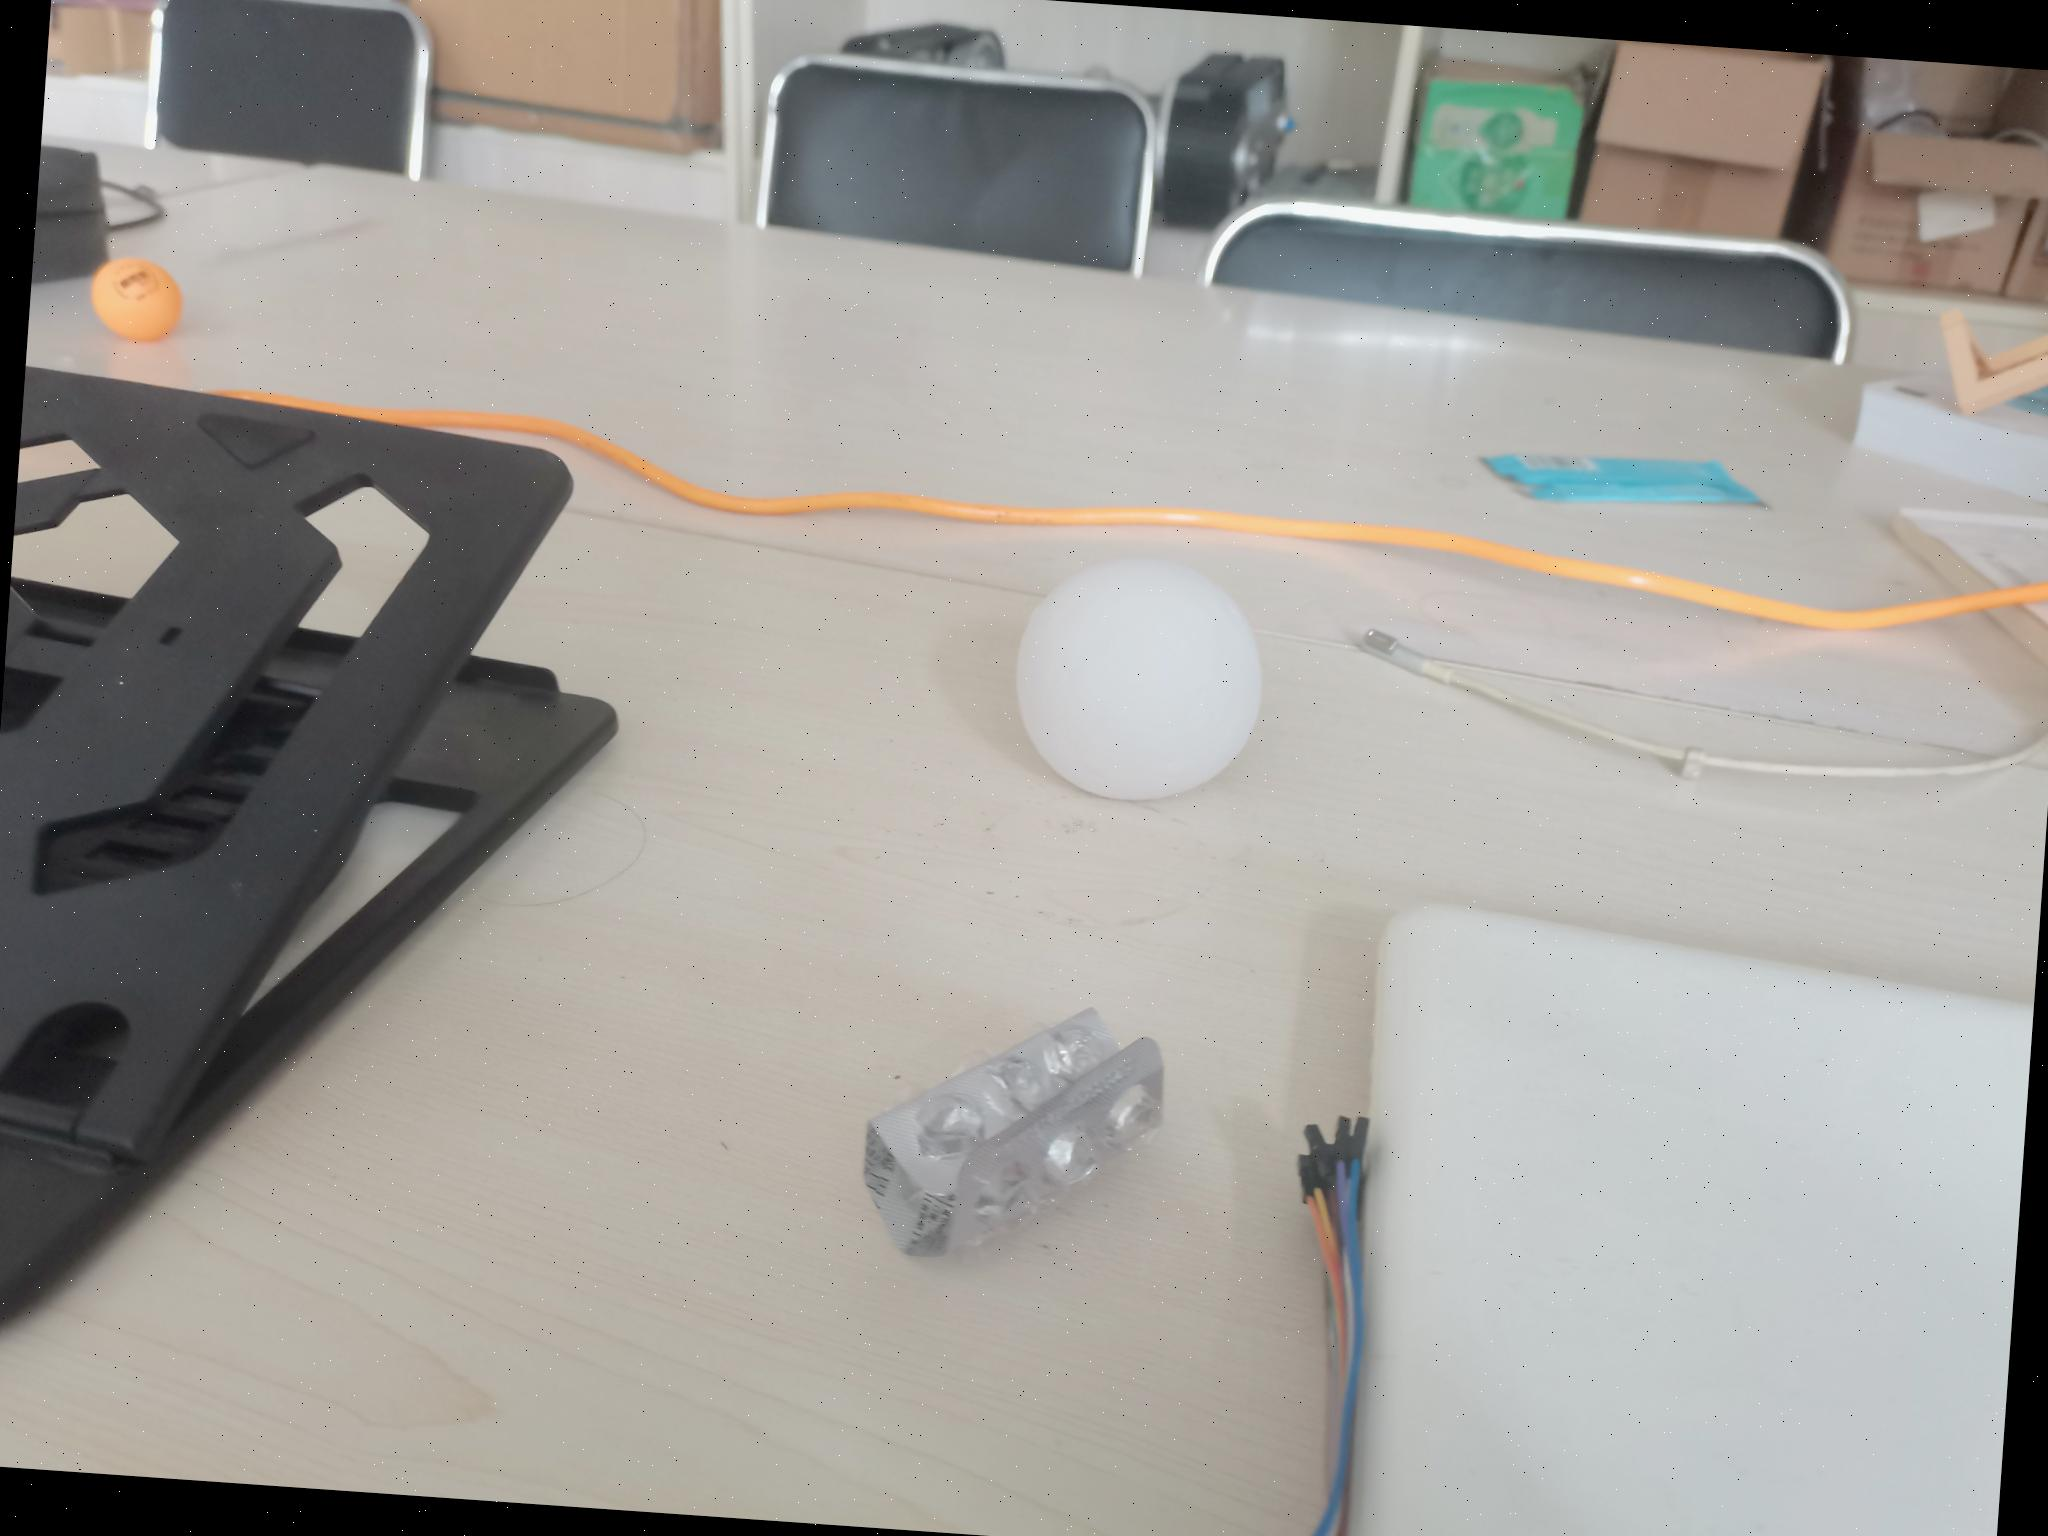ball: (84, 246, 191, 350)
